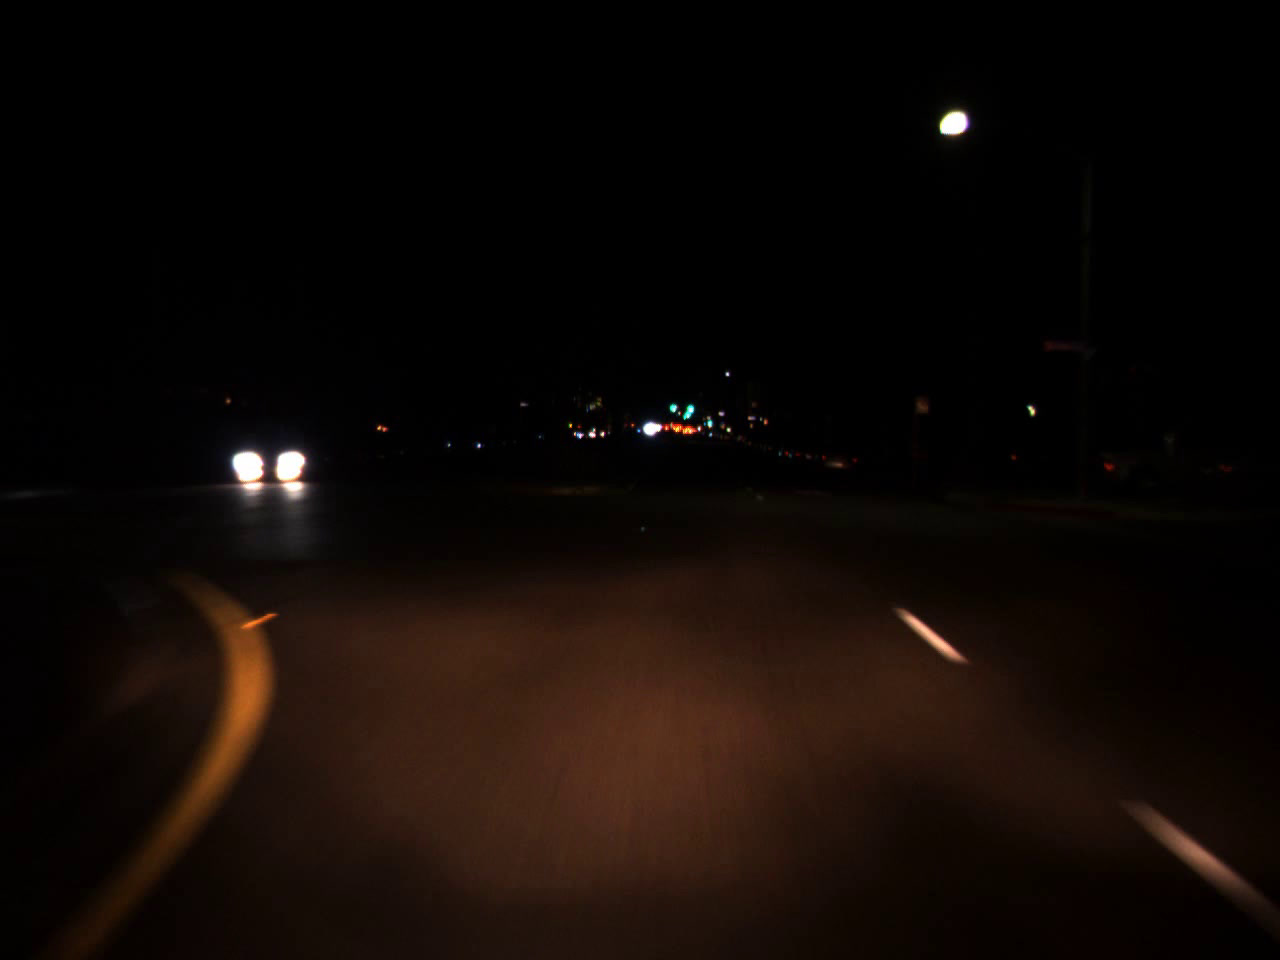go: (682, 394, 696, 418), (668, 394, 675, 415), (706, 411, 713, 429)
